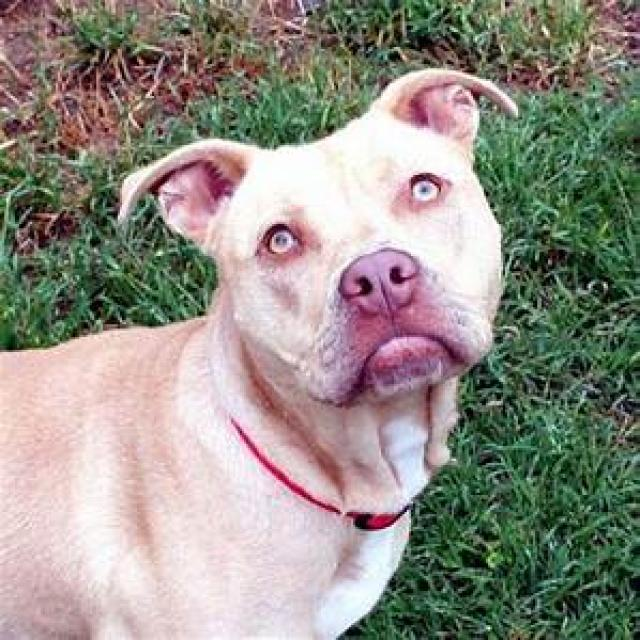dog: (0, 68, 520, 640)
